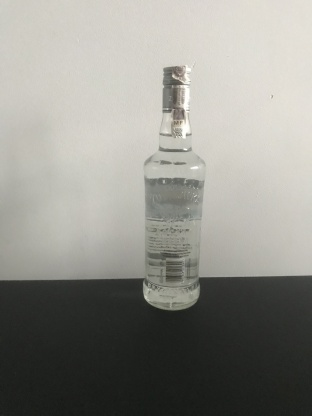nakretka: (160, 62, 192, 114)
